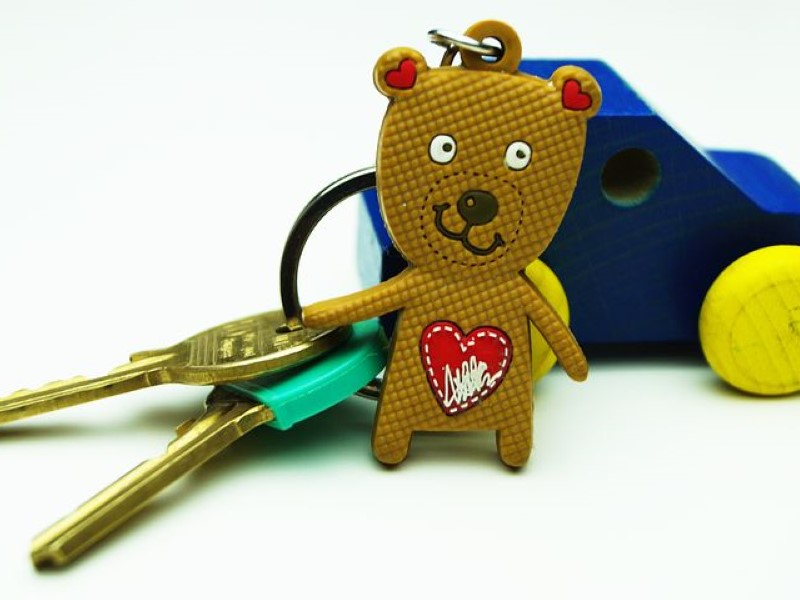key: (0, 293, 388, 575)
